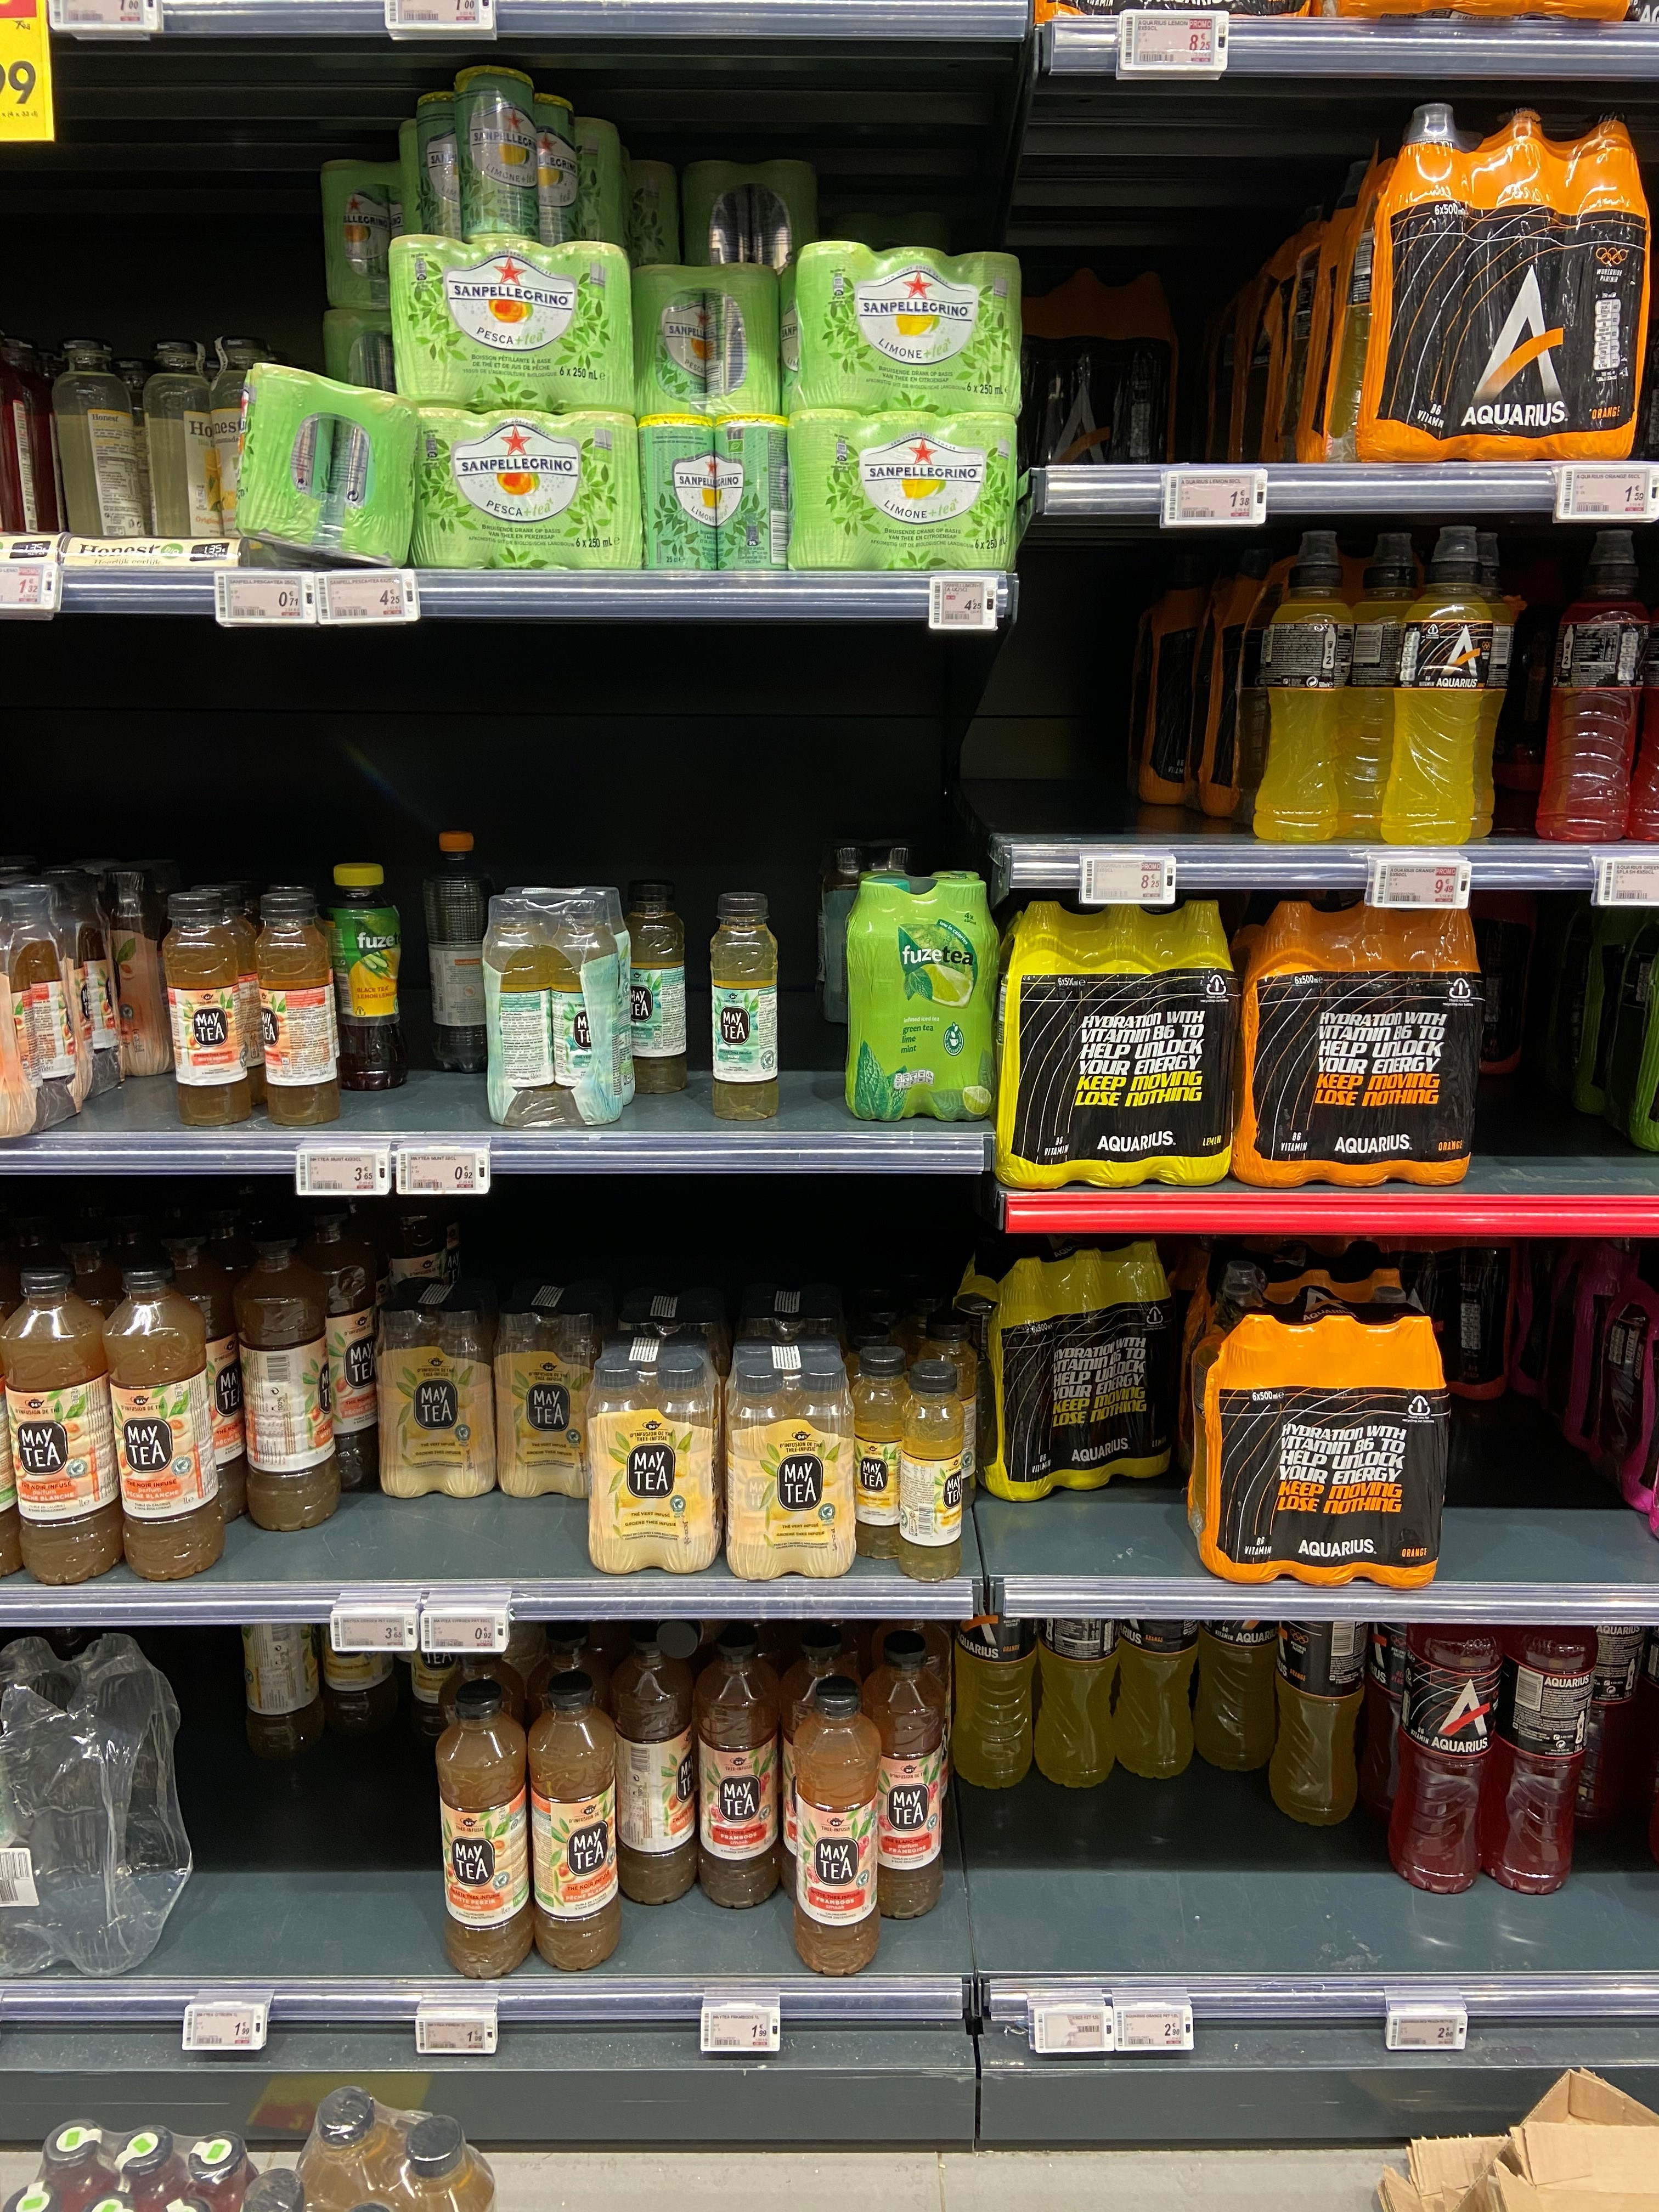AquariusLemonFles6x500ml: (993, 890, 1239, 1190), (951, 1238, 1175, 1500)
AquariusOrangeFles: (1371, 101, 1652, 462), (1185, 1285, 1452, 1587), (1230, 885, 1485, 1184), (1012, 266, 1178, 495), (1387, 529, 1499, 845), (1251, 531, 1356, 841), (1270, 1561, 1371, 1827), (955, 1547, 1039, 1791), (1035, 1536, 1115, 1791), (1114, 1536, 1195, 1780), (1195, 1541, 1277, 1775)
AquariusRedPeachFles500ml: (1391, 1594, 1502, 1893), (1542, 524, 1647, 841), (1488, 1601, 1598, 1895)
ChaudfontaineSensation: (422, 829, 497, 1075)
FuzeTeaLemongrassFles: (324, 862, 408, 1090)
FuzeTeaLimeMint4x400ml: (843, 869, 999, 1120)
HonestOriginalLemonade: (52, 336, 138, 545), (141, 340, 220, 554)
MayTeaCitron1L: (242, 1573, 322, 1759)
MayTeaCitron33cl: (899, 1360, 962, 1583), (850, 1343, 911, 1559)
MayTeaCitron4x33cl: (587, 1331, 723, 1575), (725, 1336, 857, 1578), (375, 1277, 502, 1501), (493, 1275, 620, 1500)
MayTeaFramboos1L: (863, 1630, 945, 1918), (699, 1629, 782, 1909)
MayTeaMenthe33cl: (709, 892, 781, 1122), (622, 878, 688, 1092)
MayTeaMenthe4x33cl: (484, 887, 634, 1129)
MayTeaPecheBlanche1L: (105, 1252, 227, 1581), (3, 1251, 120, 1587), (232, 1226, 342, 1534), (436, 1679, 535, 1979), (526, 1669, 619, 1970), (791, 1676, 880, 1980), (613, 1627, 697, 1904)
MayTeaPecheBlanche33cl: (160, 892, 253, 1127), (254, 892, 342, 1125)
SanPellegrino25cl: (453, 64, 538, 242), (638, 413, 716, 580), (713, 413, 789, 580)
SanPellegrino6x25cl: (387, 235, 636, 415), (406, 408, 643, 575), (782, 247, 1021, 409), (788, 413, 1016, 573), (235, 361, 411, 568), (631, 263, 781, 420), (681, 160, 816, 289)
